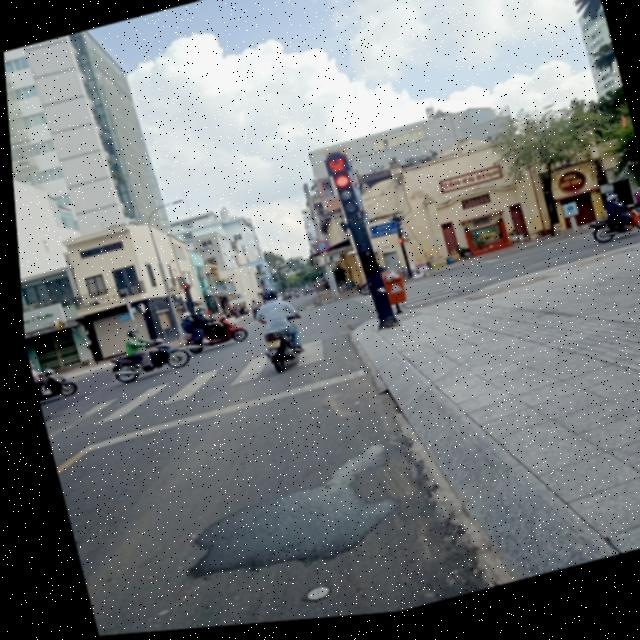Red: (325, 173, 363, 227)
